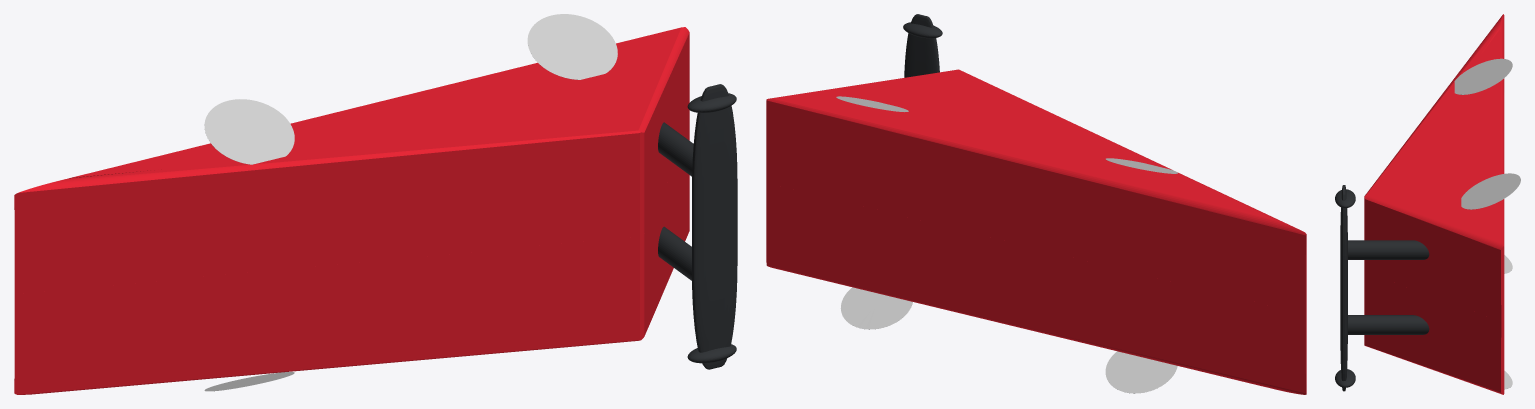
The model's file is tinker.obj.
3 views of the same model, side by side, from view 1: azimuth 30°, elevation 25°; view 2: azimuth 150°, elevation 25°; view 3: azimuth 270°, elevation 25° (orthographic). The views are drawn at different scales.
Parts seen in each view (by area): view 1: obj_1, obj_0, obj_2, obj_3, obj_5; view 2: obj_1, obj_5, obj_4, obj_0; view 3: obj_1, obj_0, obj_2, obj_3.
Boxes of the visible parts, <box> form: obj_1: <box>14,27,689,394</box>; obj_0: <box>658,84,737,369</box>; obj_2: <box>527,14,617,79</box>; obj_3: <box>204,99,294,164</box>; obj_5: <box>204,372,294,391</box>; obj_1: <box>766,69,1306,394</box>; obj_5: <box>1105,351,1177,393</box>; obj_4: <box>840,287,912,329</box>; obj_0: <box>903,14,942,77</box>; obj_1: <box>1364,14,1504,394</box>; obj_0: <box>1335,185,1429,391</box>; obj_2: <box>1461,173,1520,209</box>; obj_3: <box>1454,58,1512,94</box>.
Size of the model in its own units: 215 by 89.12 by 71.5.
